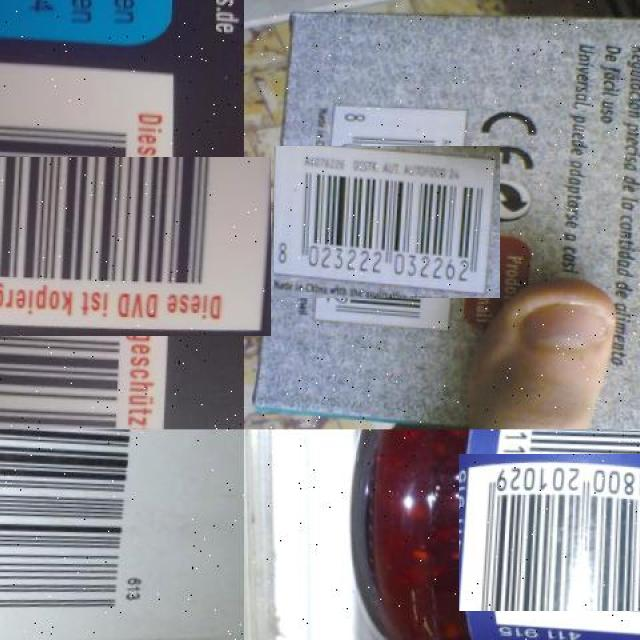Barcode: (0, 111, 226, 383), (292, 127, 481, 317), (0, 430, 158, 640), (471, 442, 640, 623)
